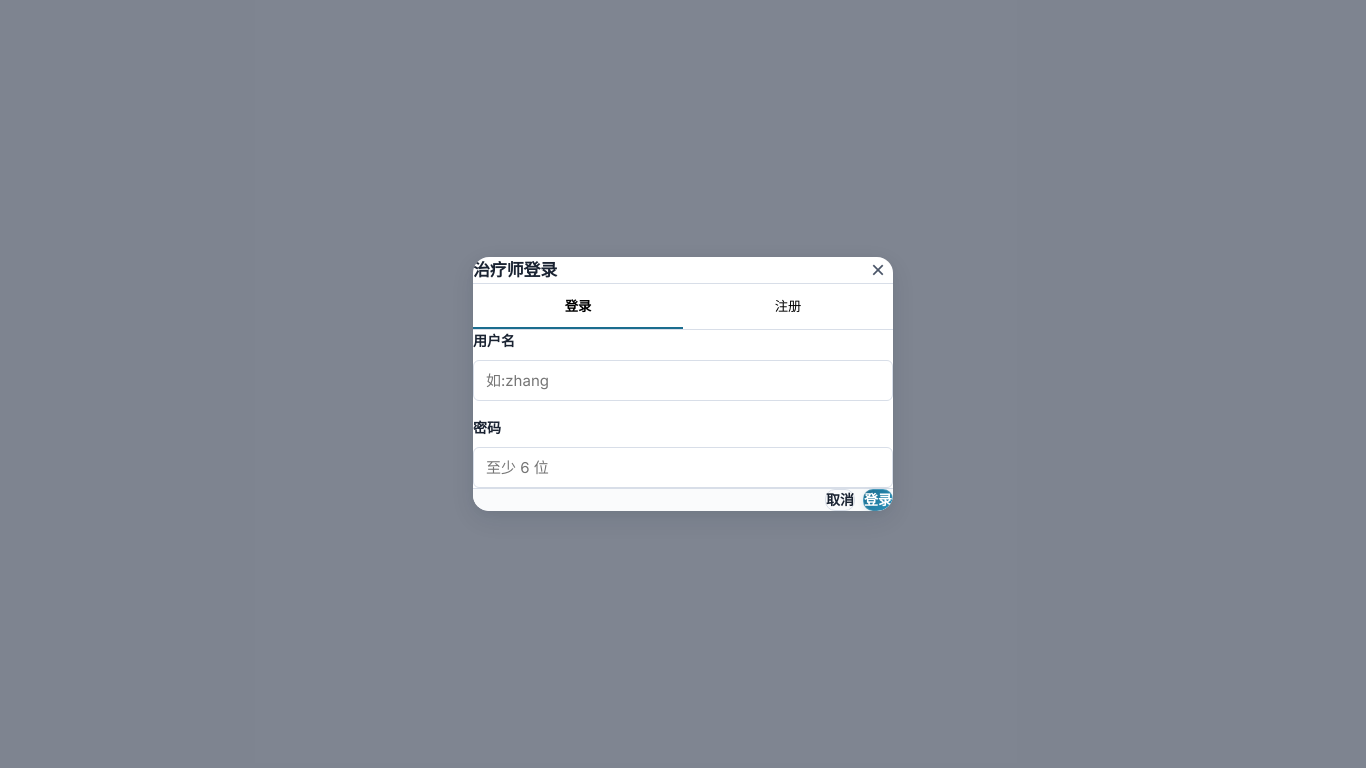
LoginDialog › 提交失败时,顶部错误区域带 role=alert
Type "validname" into the field labelled "用户名" at (683, 381), box [473,360,893,401]
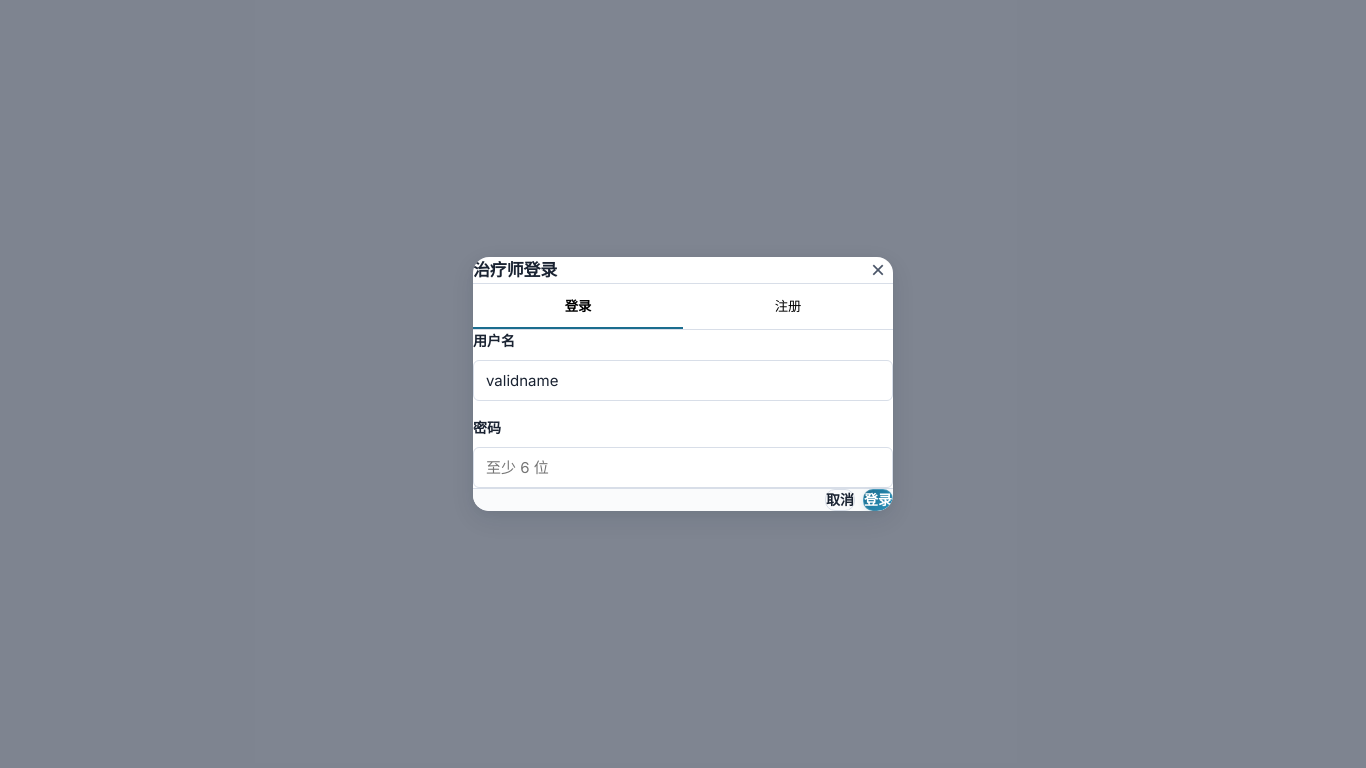
Type "secret123" into the password field labelled "密码" at (683, 468), box [473,447,893,488]
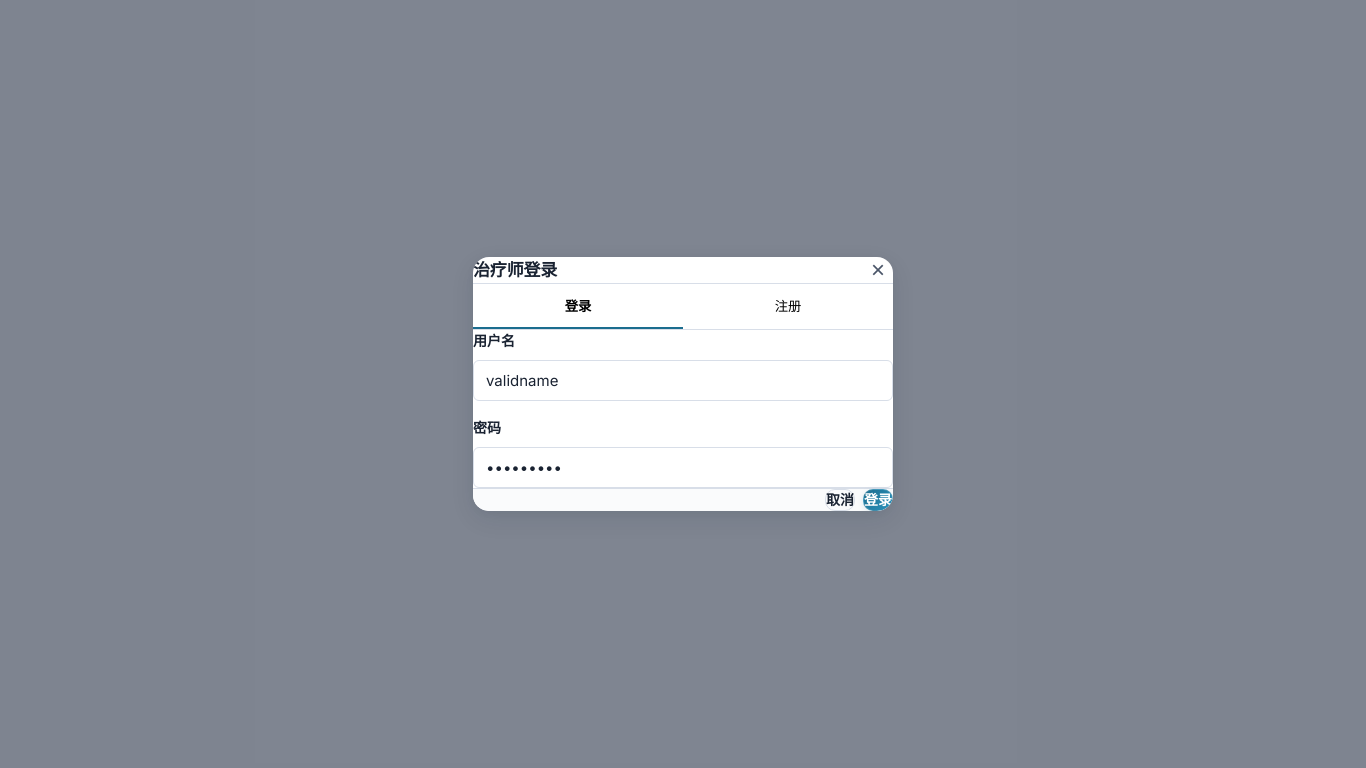
Click the button "登录" at (878, 500), box [863,489,893,511]
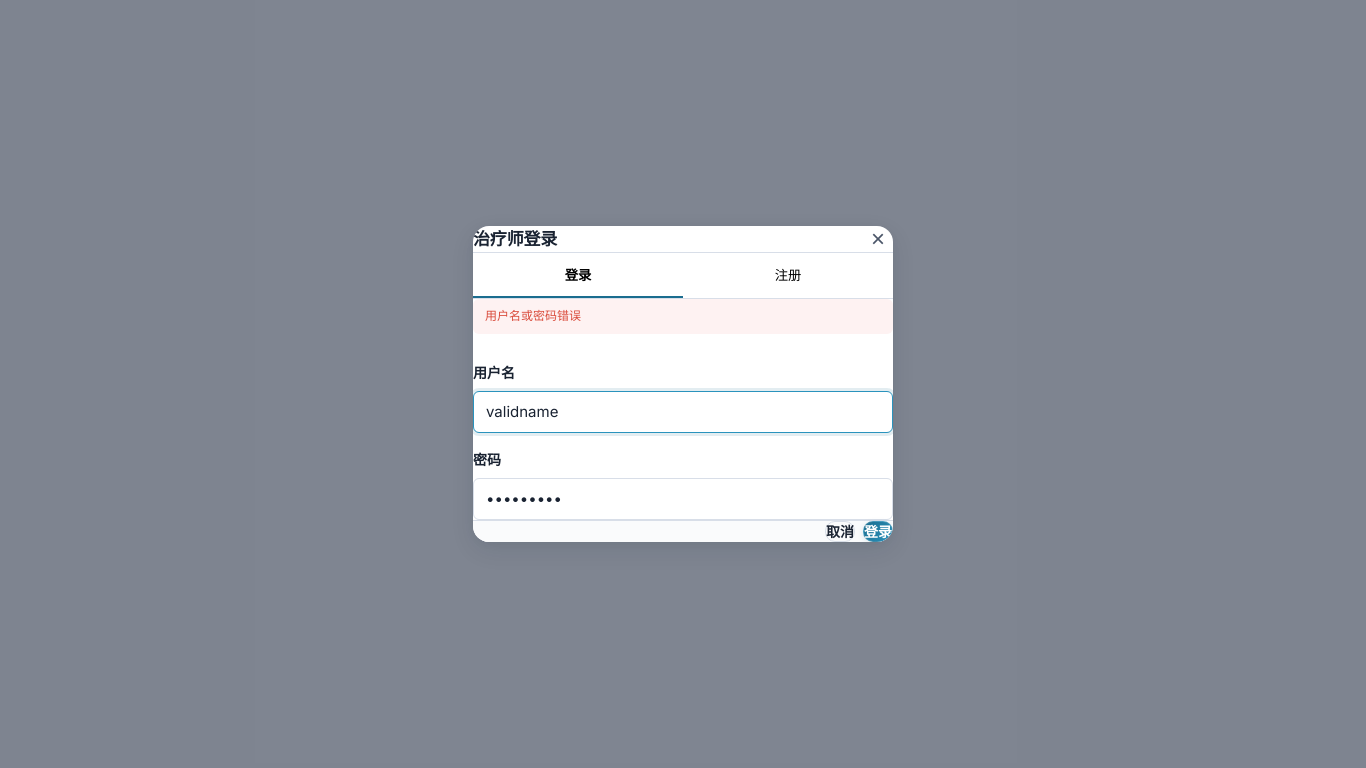
expect the text "用户名或密码错误" is shown: met, box [473,299,893,334]
